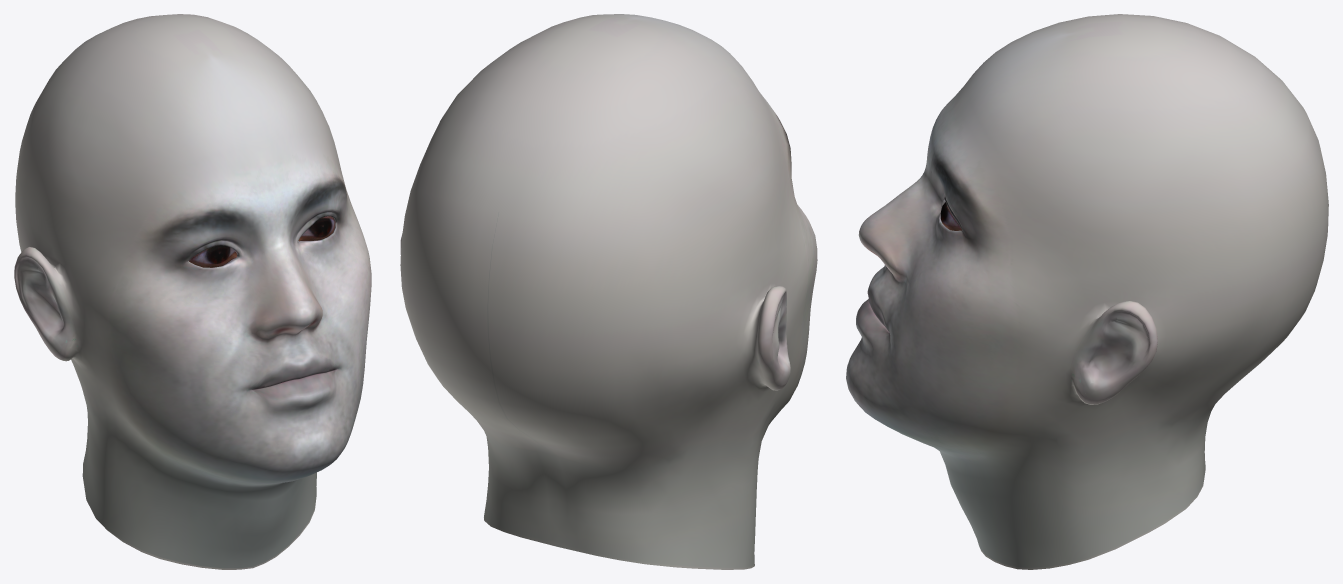
3 renders of one model, left to right at view 1: azimuth 30°, elevation 25°; view 2: azimuth 150°, elevation 25°; view 3: azimuth 270°, elevation 25°, orthographic. The views are drawn at different scales.
Parts seen in each view (by area): view 1: skin_hi, eyeR_hi, eyeL_hi; view 2: skin_hi; view 3: skin_hi.
Part boxes in pixels (x1,y1,x2,y2): skin_hi: (14, 14, 371, 569); eyeR_hi: (189, 245, 236, 267); eyeL_hi: (298, 216, 335, 241); skin_hi: (400, 14, 817, 569); skin_hi: (846, 14, 1328, 569).
Bounding box in the file's own units: 194 × 282 × 238.
